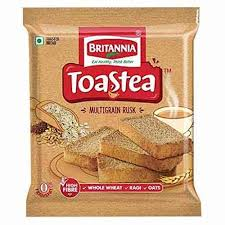Britania-toast-small: (28, 12, 201, 218)
